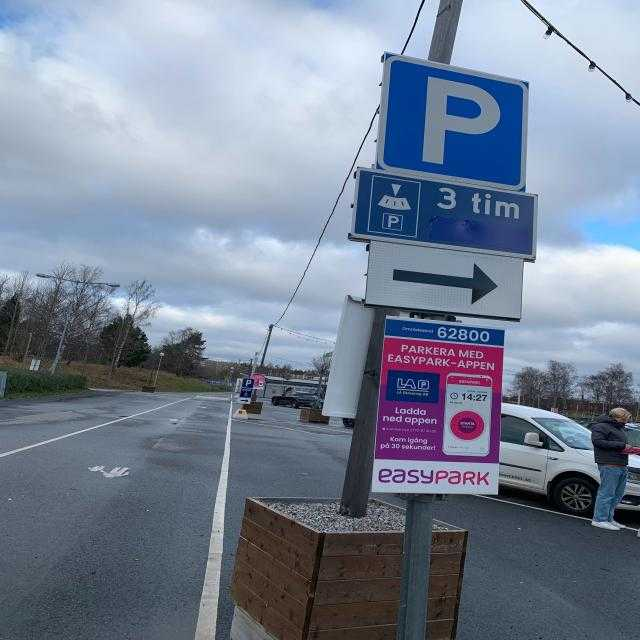psign: (379, 52, 527, 188)
